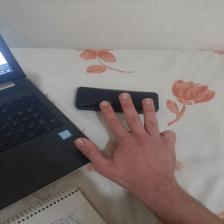five: (72, 92, 183, 188)
